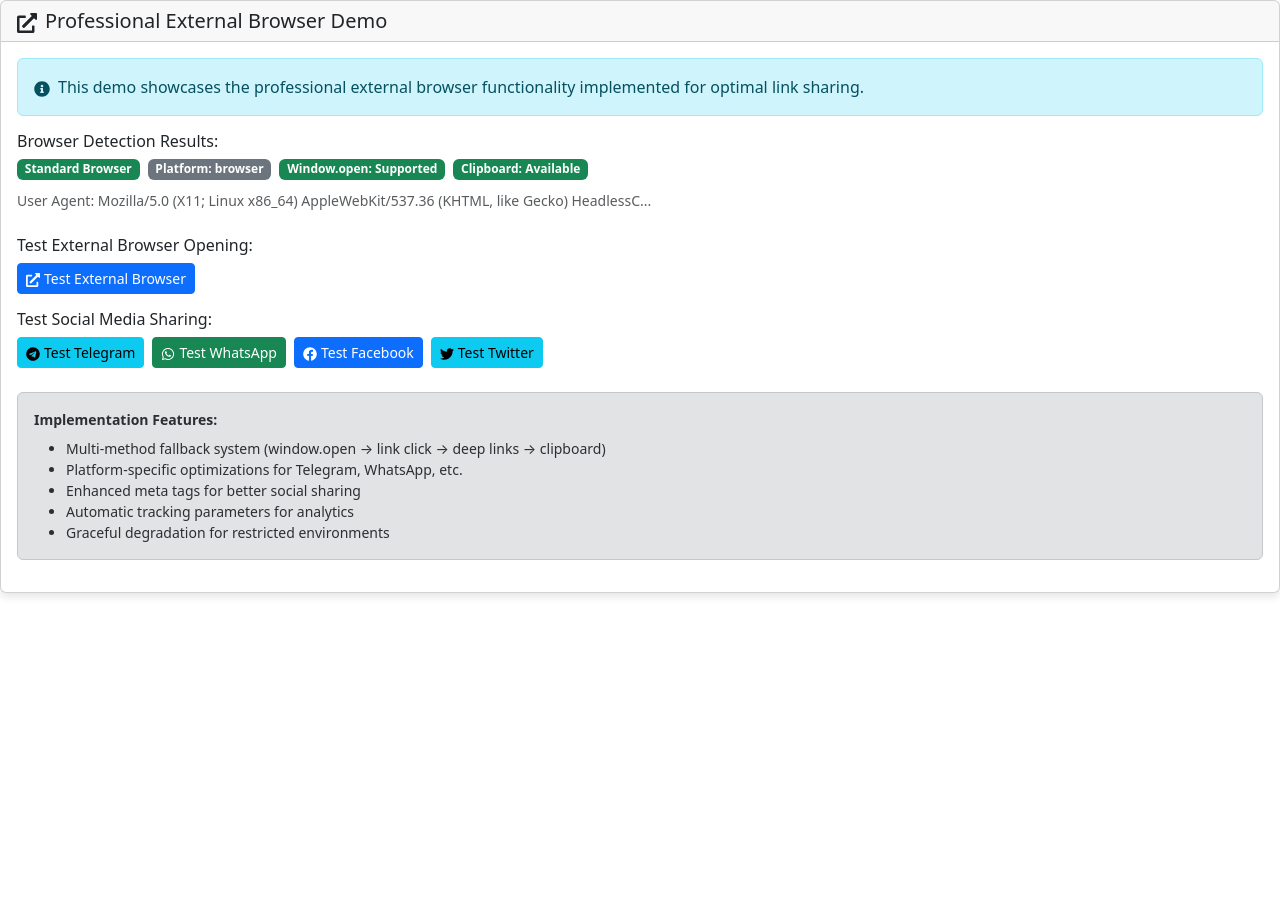
ExternalBrowser Professional Implementation › External Browser Opening › handles successful external browser opening
Click the button "Test External Browser" at (106, 278), box [17,263,195,294]
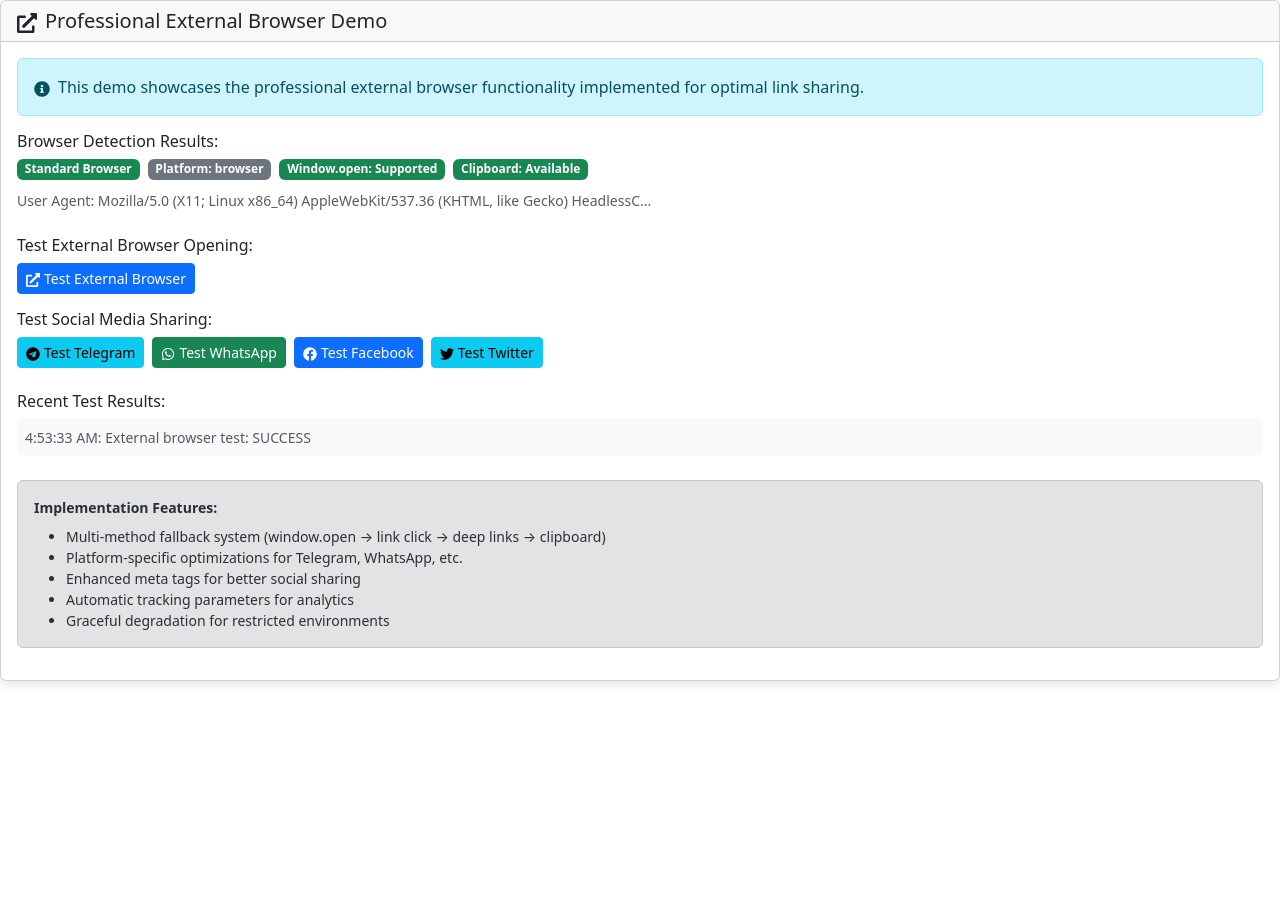
Now the text "4:53:33 AM: External browser test: SUCCESS" is shown, box [25,428,311,447]
